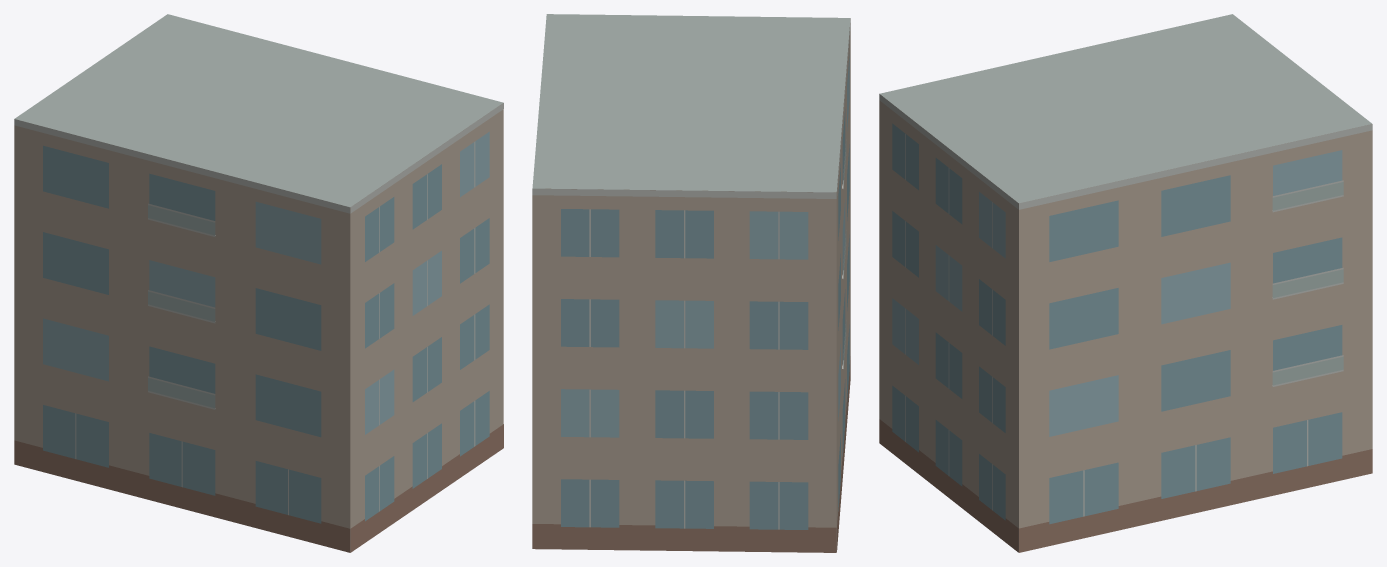
The model's file is survey-upis-33011514.glb.
3 views of the same model, side by side, from view 1: azimuth 30°, elevation 25°; view 2: azimuth 150°, elevation 25°; view 3: azimuth 270°, elevation 25° (orthographic). The views are drawn at different scales.
Parts seen in each view (by area): view 1: survey-upis-33011514.tmp; view 2: survey-upis-33011514.tmp; view 3: survey-upis-33011514.tmp.
Part boxes in pixels (x1,y1,x2,y2): survey-upis-33011514.tmp: (14, 14, 503, 552); survey-upis-33011514.tmp: (532, 14, 850, 552); survey-upis-33011514.tmp: (879, 14, 1372, 552).
Size of the model in its own units: 15.35 by 13.2 by 16.89.
